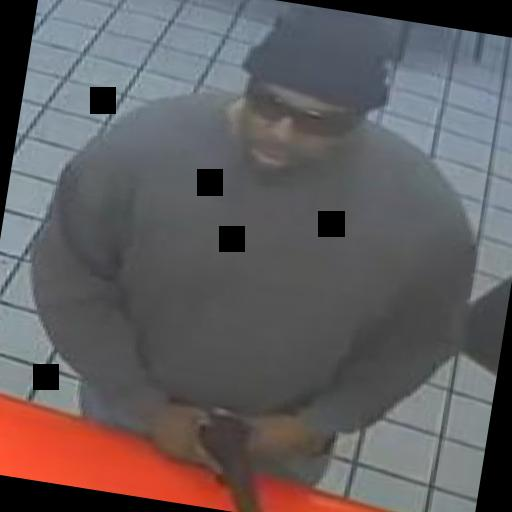Handgun: (181, 407, 274, 512)
